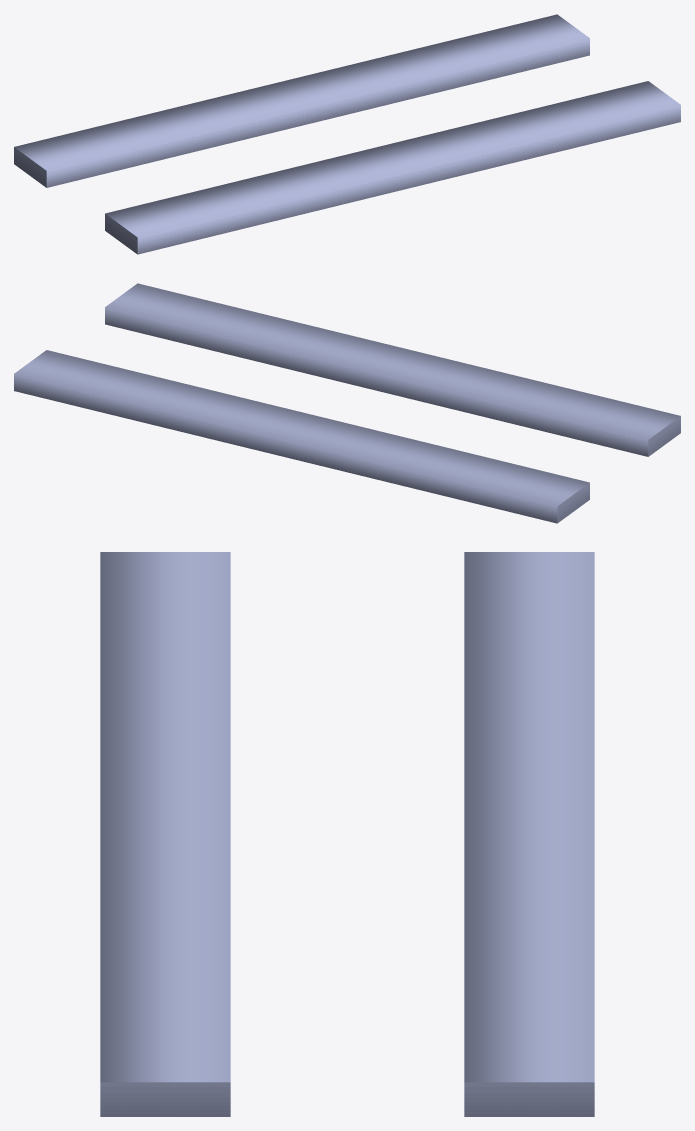
The model's file is hk_trainset-rail-straight.glb.
3 renders of one model, top to bottom at view 1: azimuth 30°, elevation 25°; view 2: azimuth 150°, elevation 25°; view 3: azimuth 270°, elevation 25°, orthographic. The views are drawn at different scales.
Visible parts, largest first — view 1: trainset-rail-straight; view 2: trainset-rail-straight; view 3: trainset-rail-straight.
Part boxes in pixels (<box>): trainset-rail-straight: <box>14,14,680,254</box>; trainset-rail-straight: <box>14,283,680,523</box>; trainset-rail-straight: <box>100,552,594,1116</box>.
Size of the model in its own units: 0.5 by 0.0151 by 0.197.
Materials: 1 (1 with a texture image).
